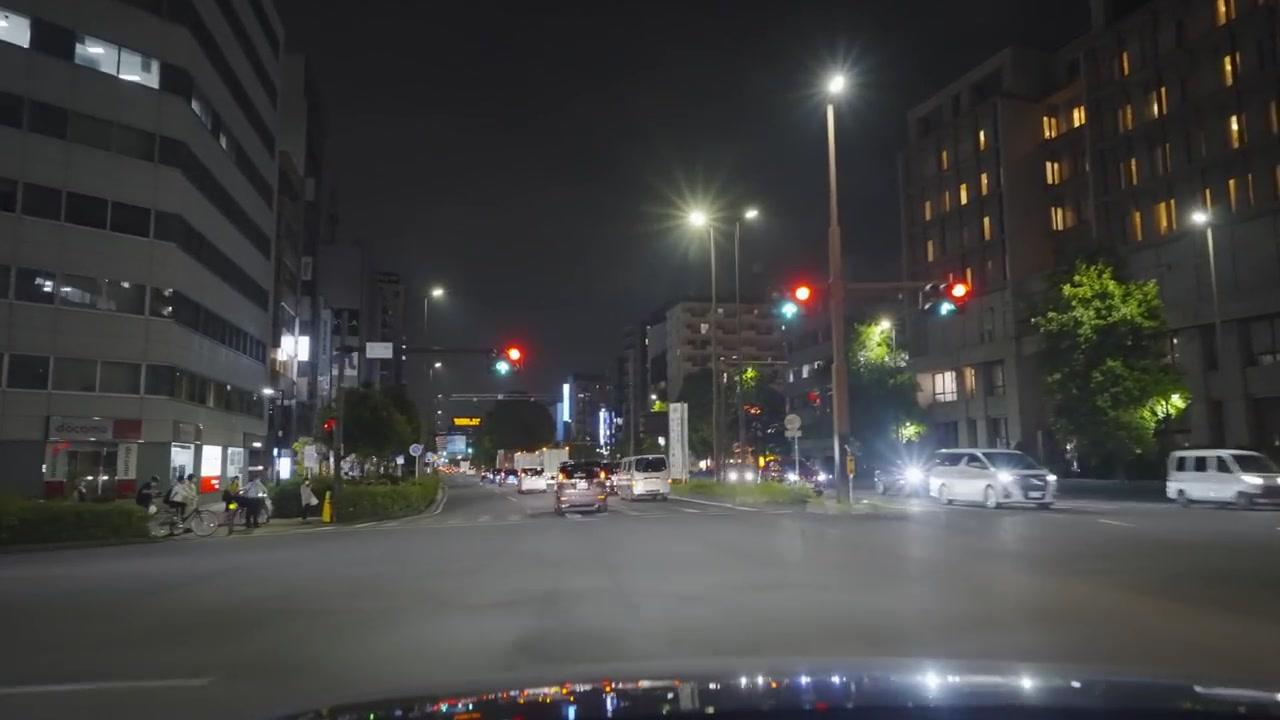bicycle: (149, 497, 217, 538), (223, 491, 271, 533)
bus: (613, 455, 671, 501)
car: (923, 448, 1058, 510), (1165, 448, 1280, 509), (613, 454, 671, 501), (556, 473, 609, 515), (873, 462, 918, 496), (764, 461, 820, 488), (518, 469, 550, 493)
person: (153, 482, 210, 537), (165, 471, 196, 526), (240, 472, 270, 526), (136, 476, 162, 513), (299, 478, 319, 524)
traffic light: (921, 280, 956, 317), (944, 278, 970, 315), (491, 347, 519, 377), (779, 299, 799, 325), (505, 345, 524, 370), (793, 284, 813, 305), (321, 416, 336, 443), (806, 389, 820, 409)
truck: (614, 454, 671, 501)
